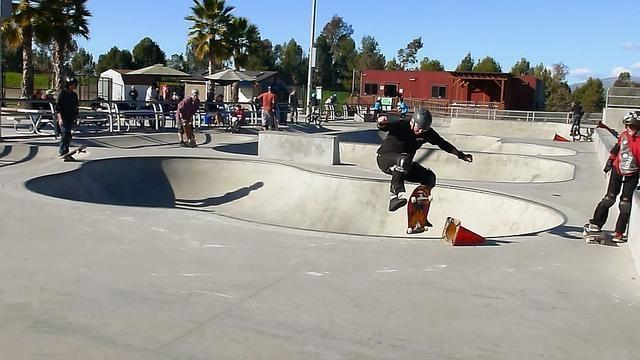bicycle: (570, 124, 595, 143), (226, 115, 241, 134), (306, 115, 323, 125), (332, 102, 342, 117)
